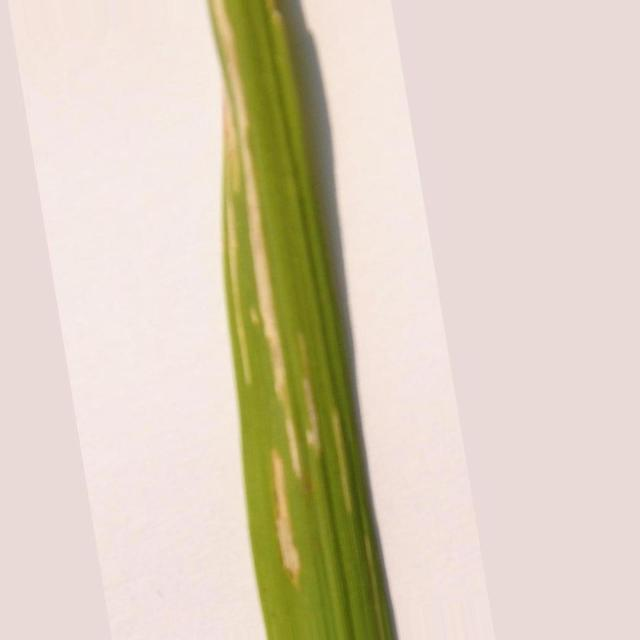Bacterial_Leaf_Blight: (224, 110, 354, 520), (210, 0, 290, 420), (270, 446, 301, 589), (240, 330, 251, 381)
